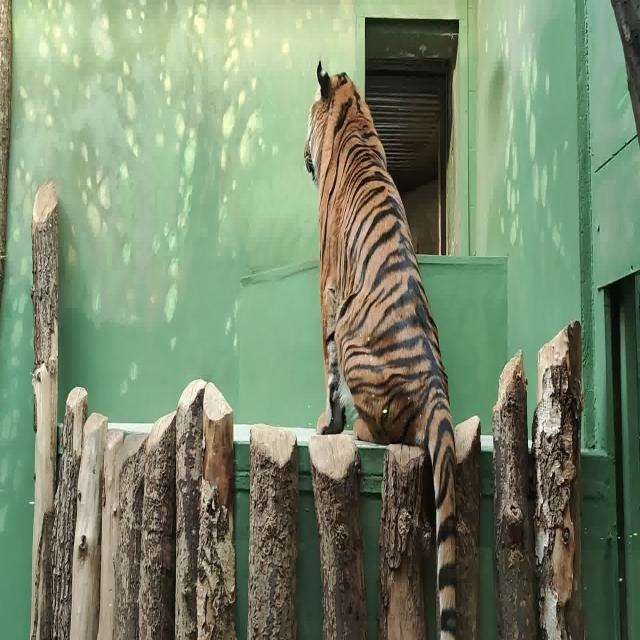tiger: (303, 59, 456, 640)
